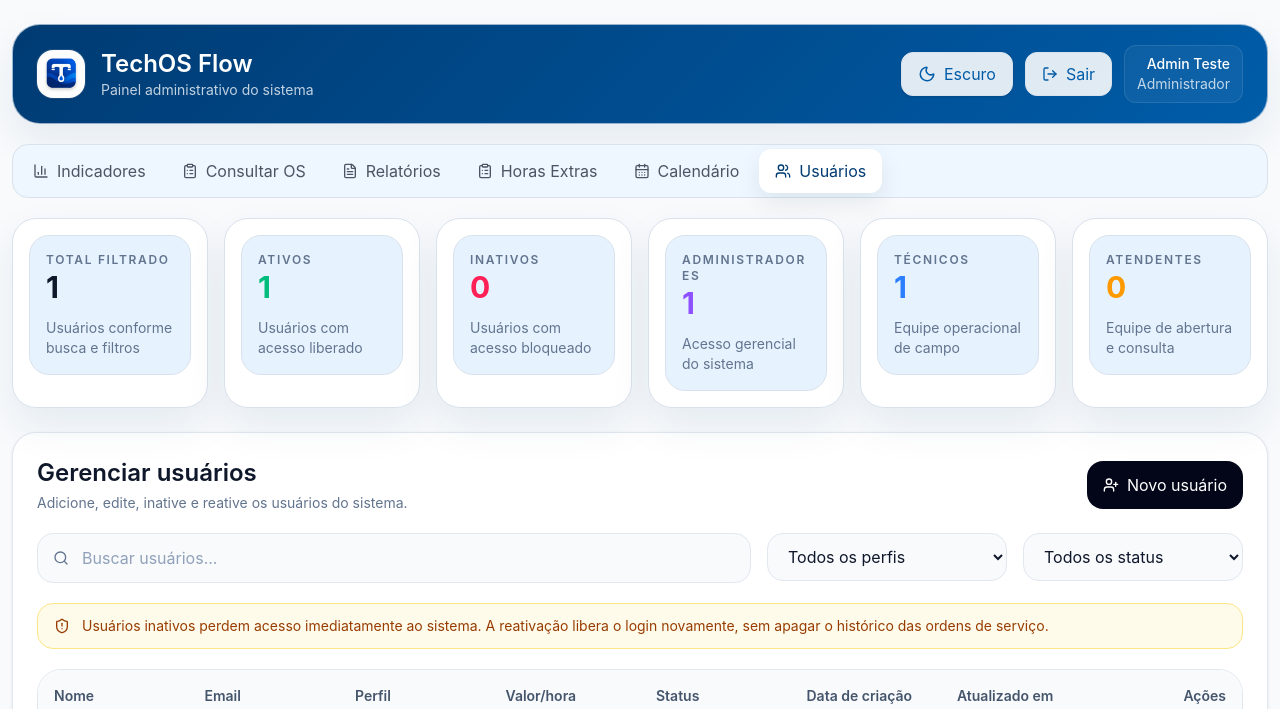
it: UsuariosPage › renderiza a listagem e o formulário sem violações básicas de acessibilidade
Expected: the heading "Gerenciar usuários" is shown, [37,458,257,487]
Click the button "Novo usuário" at (1165, 485), box [1087,461,1243,509]
(page scrolled)
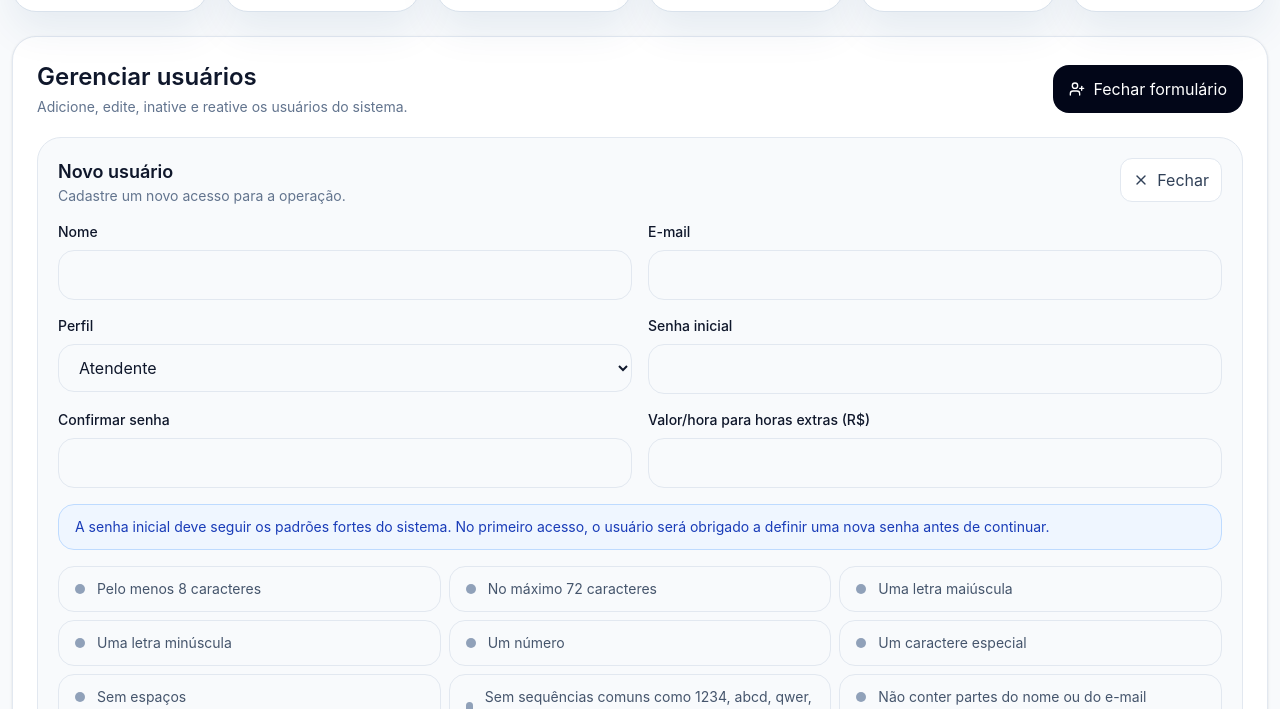
Now the dropdown labelled "Perfil" is shown, box [58,344,632,392]
